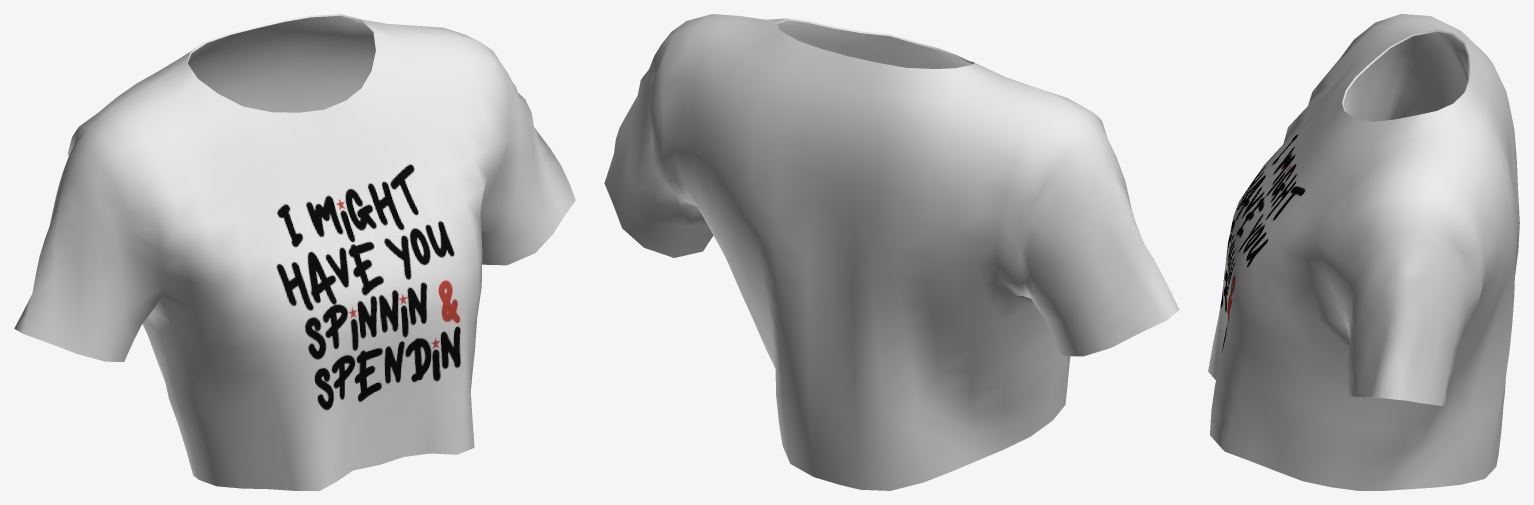
Rendered from dess-dior-crop-tee.glb.
3 renders of one model, left to right at view 1: azimuth 30°, elevation 25°; view 2: azimuth 150°, elevation 25°; view 3: azimuth 270°, elevation 25°, orthographic. The views are drawn at different scales.
Parts seen in each view (by area): view 1: Crop_Shirt_n3d; view 2: Crop_Shirt_n3d; view 3: Crop_Shirt_n3d.
Boxes of the visible parts, box(x1,y1,x2,y2) form: Crop_Shirt_n3d: box(14, 14, 575, 490); Crop_Shirt_n3d: box(604, 14, 1179, 490); Crop_Shirt_n3d: box(1208, 14, 1519, 490).
Size of the model in its own units: 1.22 by 0.8531 by 0.6186.
1 material, 1 textured.
